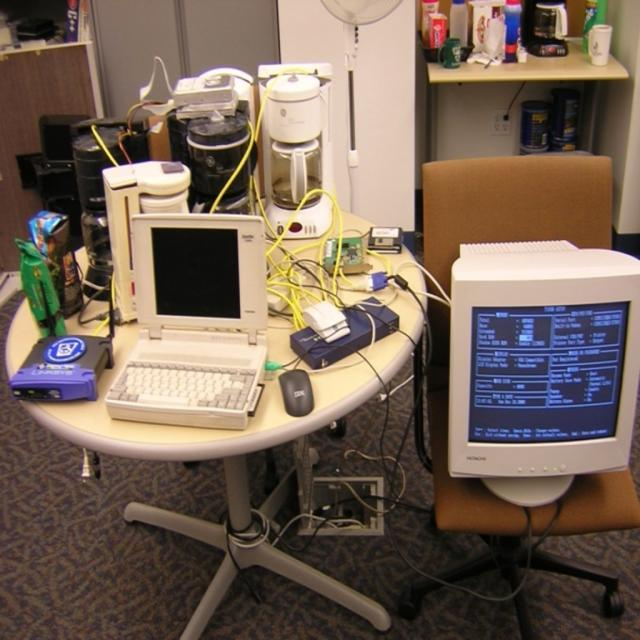Coffee-Machine: (256, 52, 350, 228)
